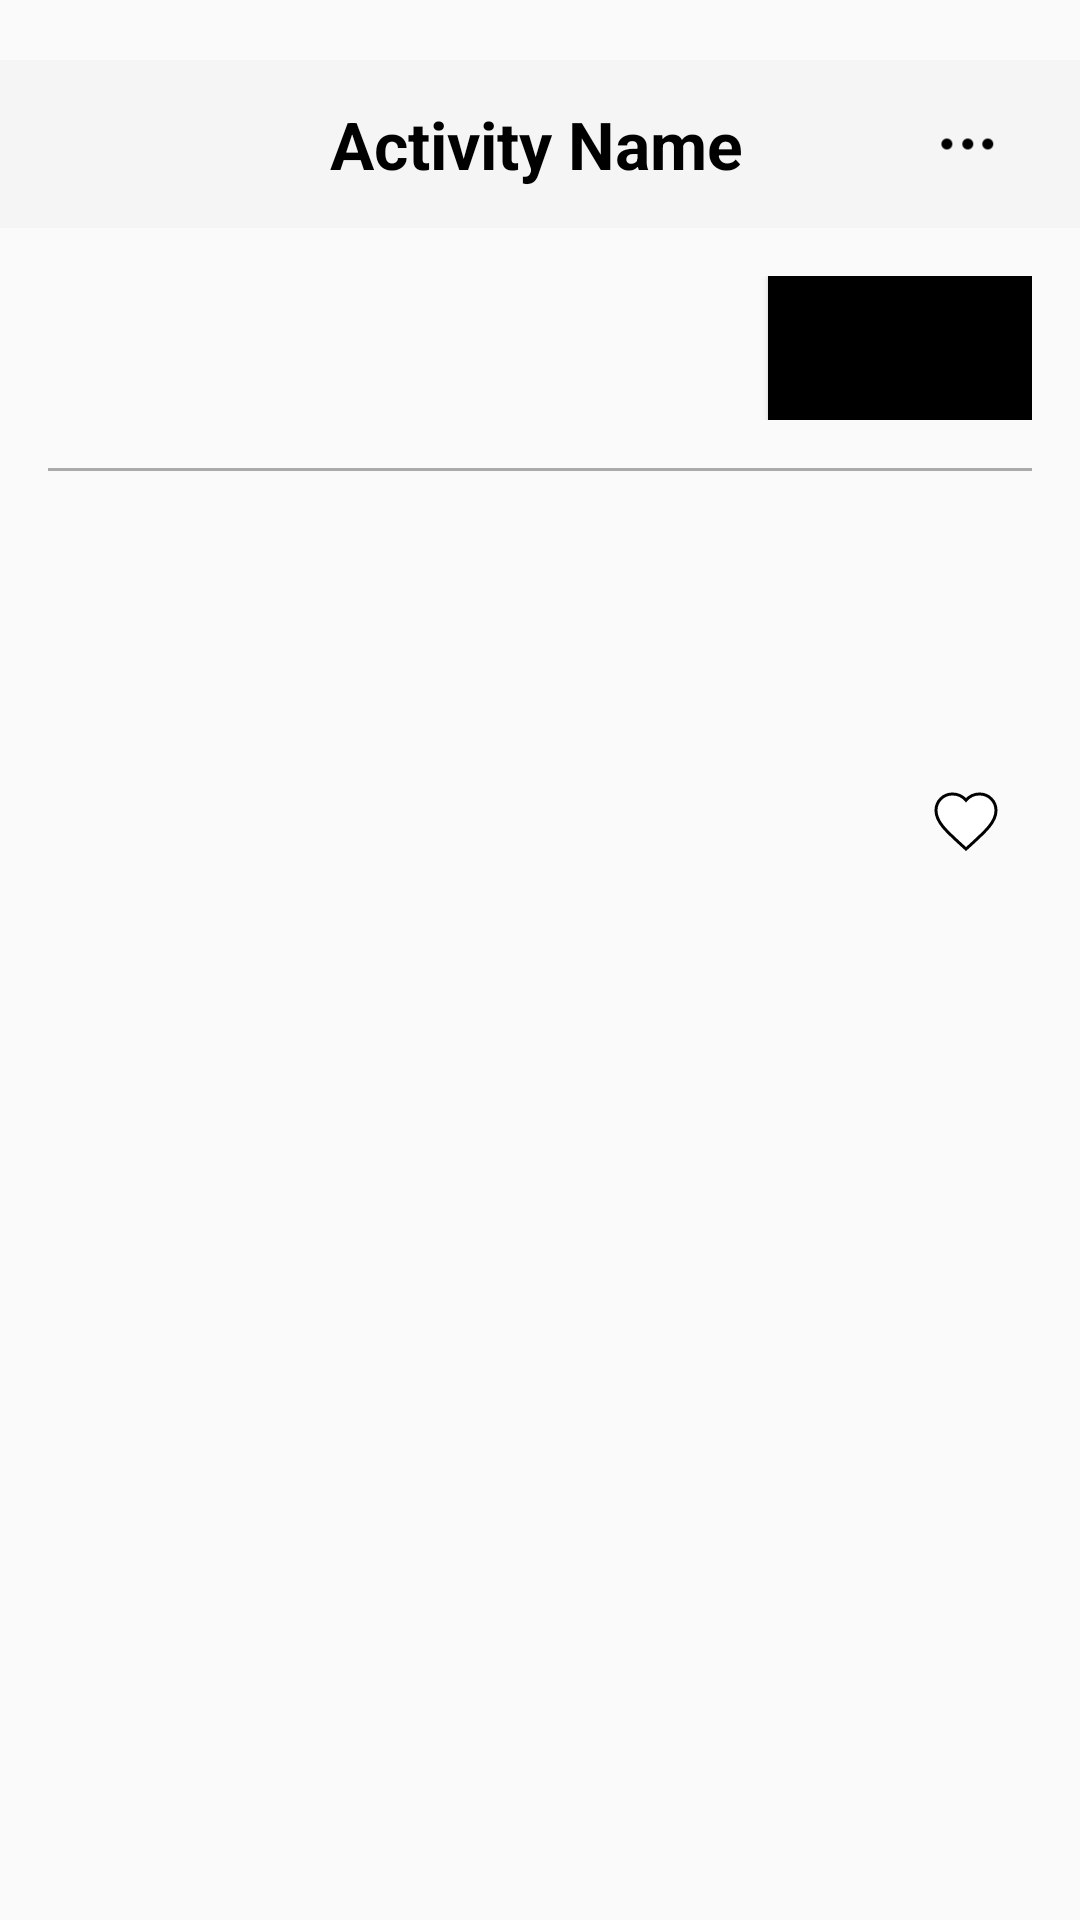

Screen size 1080 x 1920. Icon name, then its box in pixels as (x1, y1, x2, y2):
heart effect: (934, 792, 998, 851)
navbar more: (941, 138, 994, 150)
